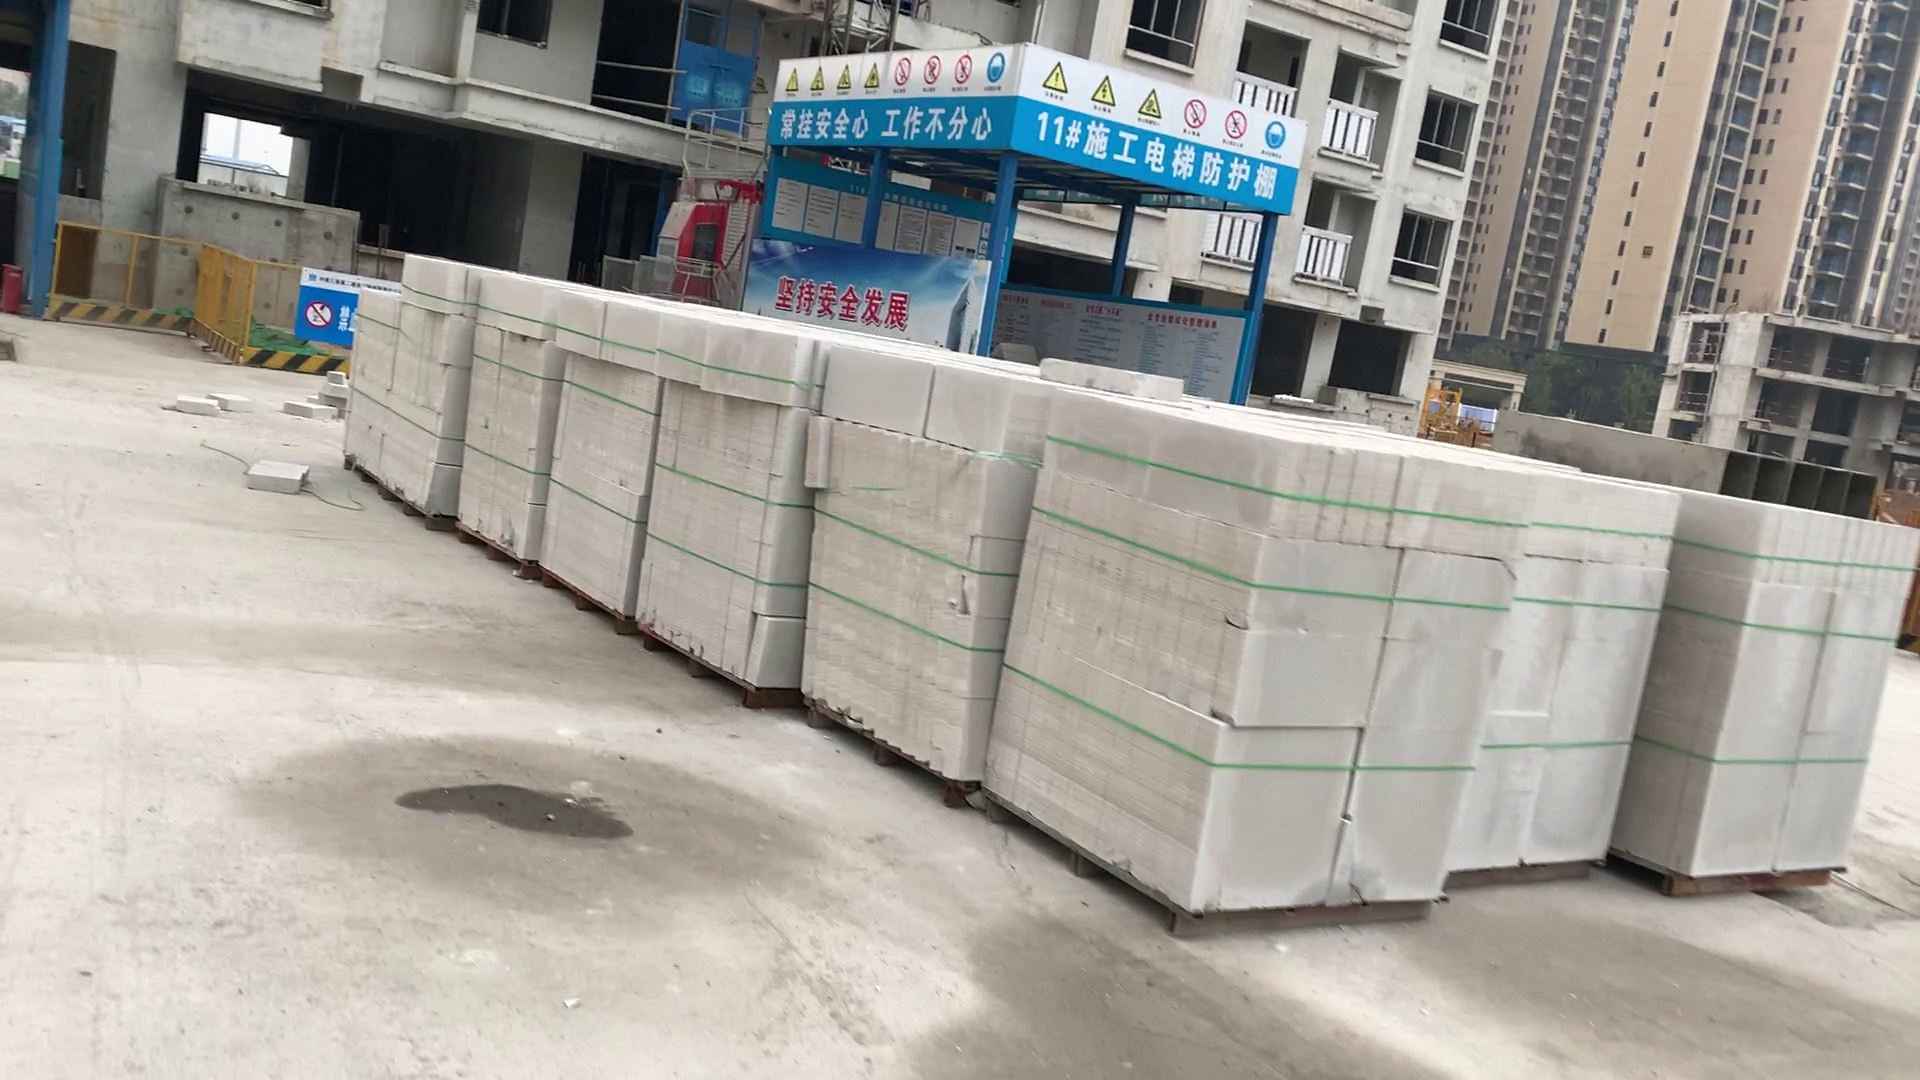brickwork: (1007, 400, 1255, 922), (1662, 491, 1905, 899), (1447, 479, 1644, 887), (810, 353, 992, 779), (644, 315, 796, 680), (546, 299, 651, 615), (342, 265, 462, 504), (454, 276, 542, 560)
